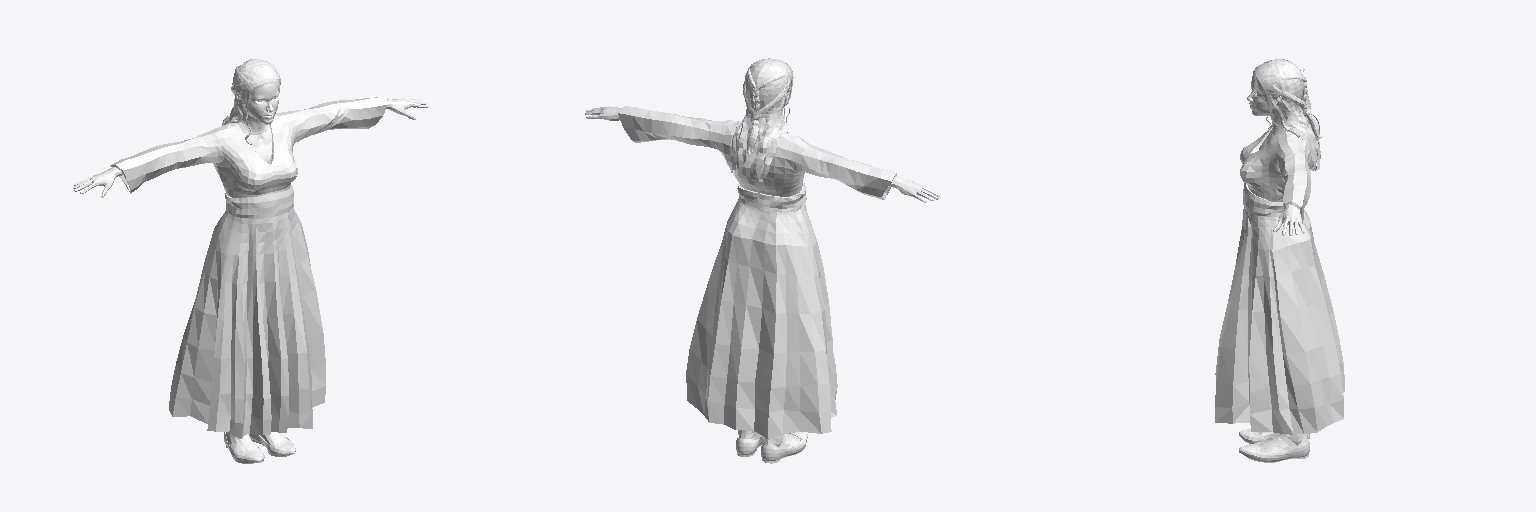
File: female4c2.obj
3 renders of one model, left to right at view 1: azimuth 30°, elevation 25°; view 2: azimuth 150°, elevation 25°; view 3: azimuth 270°, elevation 25°, orthographic.
Parts seen in each view (by area): view 1: Tops, Body, Hair, Shoes; view 2: Tops, Hair, Body, Shoes; view 3: Tops, Hair, Body, Shoes.
Part boxes in pixels (x1,y1,x2,y2): Tops: (110,97,387,438); Body: (73,84,427,452); Hair: (222,59,280,144); Shoes: (224,432,295,463); Tops: (618,106,896,438); Hair: (731,58,793,184); Body: (585,61,939,449); Shoes: (736,432,807,463); Tops: (1215,93,1344,433); Hair: (1253,59,1322,173); Body: (1247,68,1306,452); Shoes: (1239,429,1309,462).
Size of the model in its own units: 1.66 by 1.74 by 0.5304.